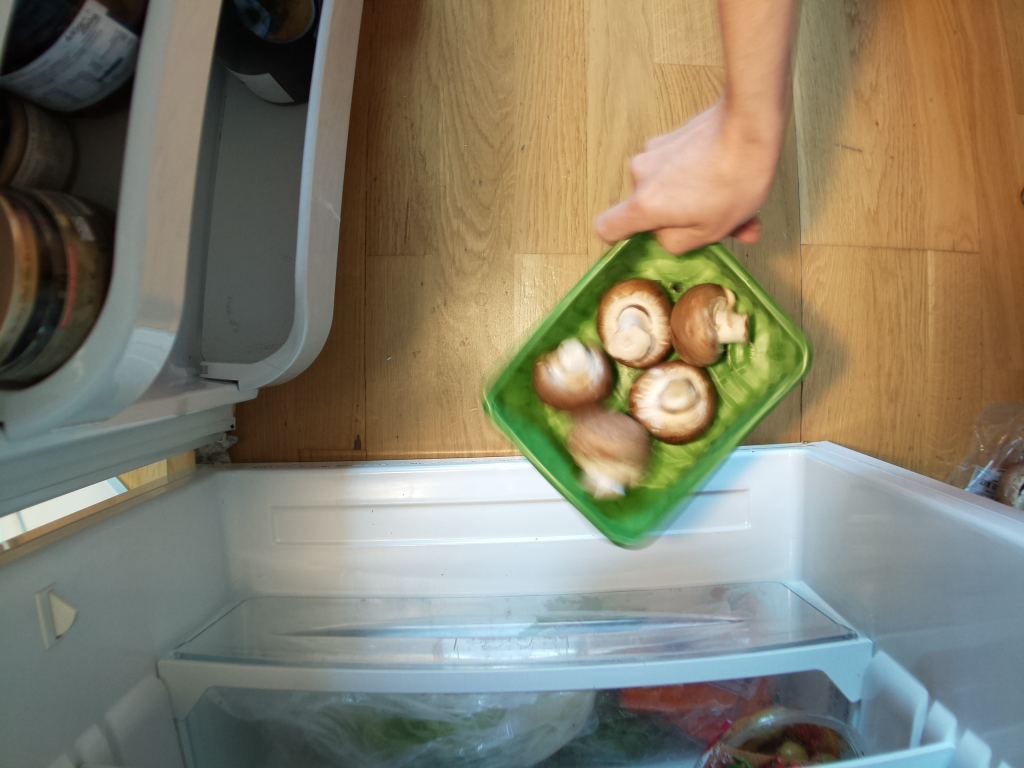mushrooms: (487, 230, 811, 556)
